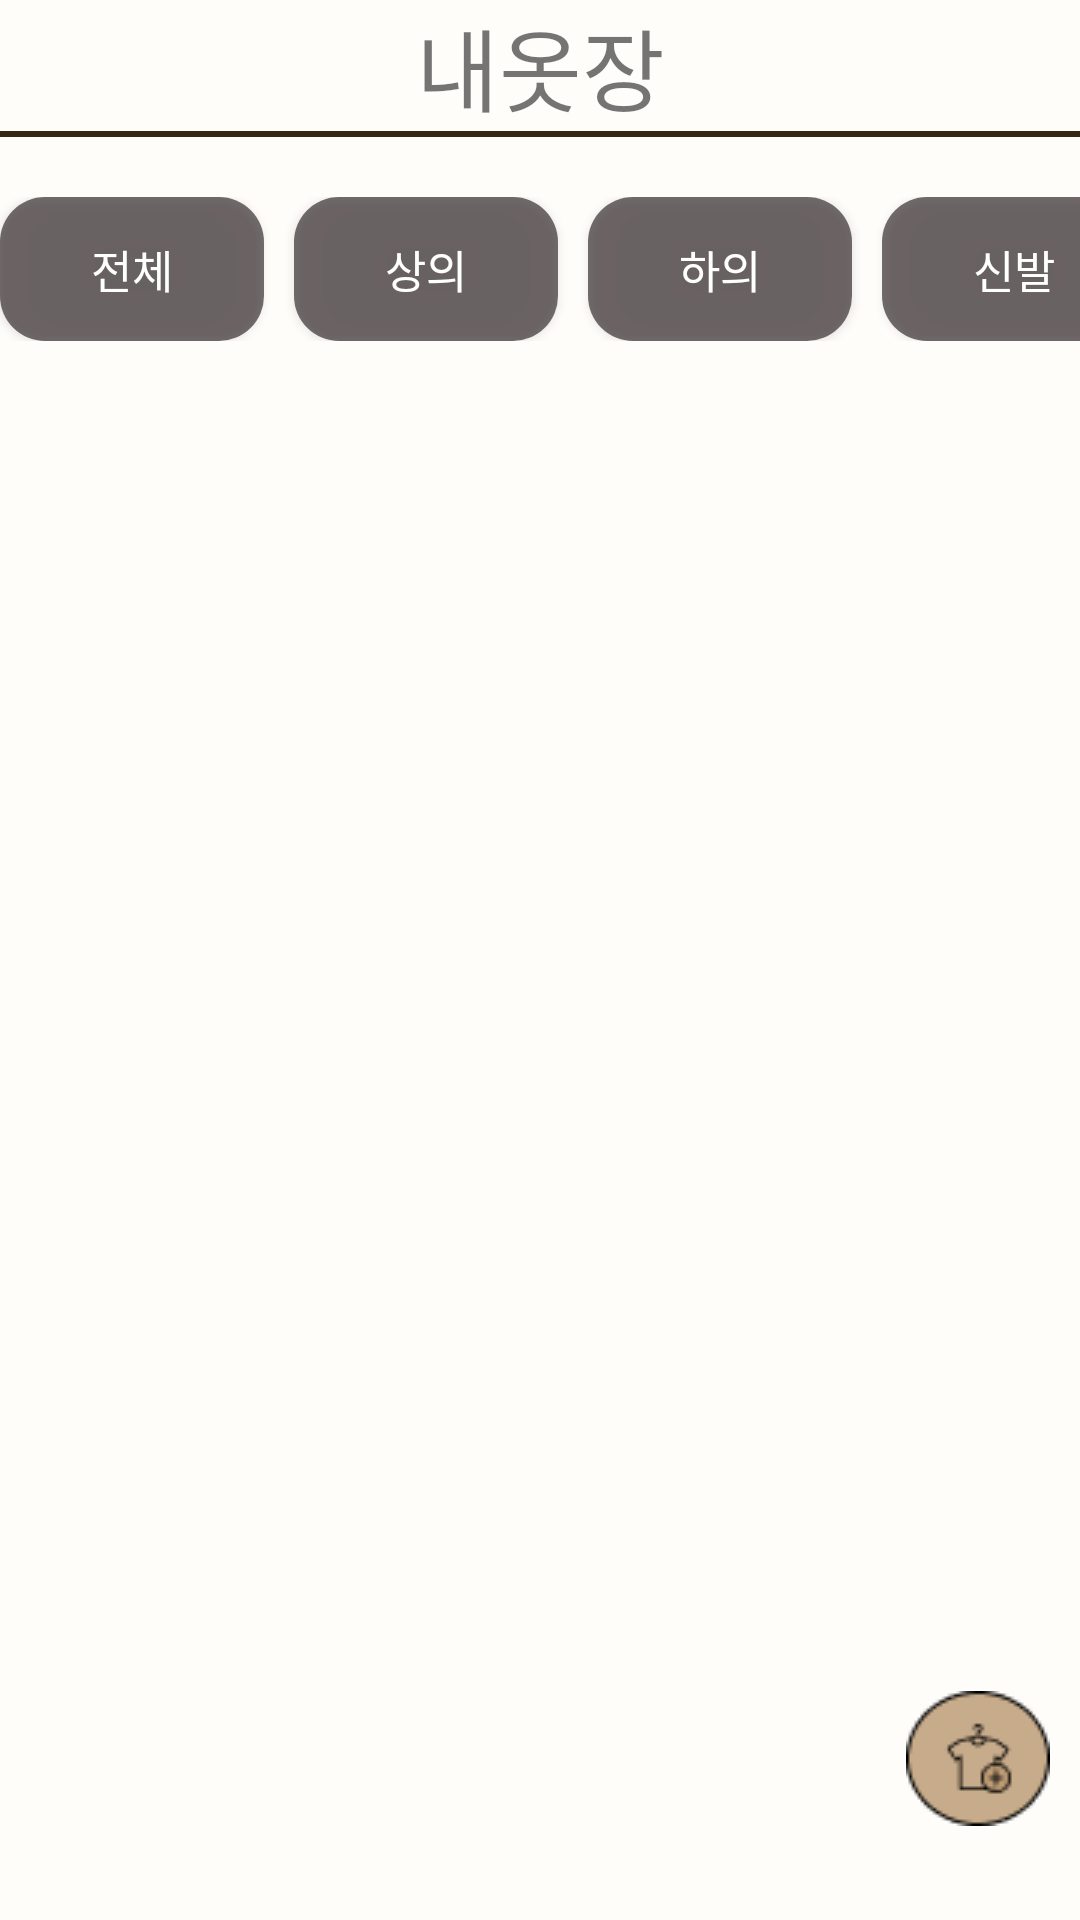

Icons on this 1080px×1920px Android screen, each with the point to tap as point (x, y):
clothes plus: point (978, 1758)
